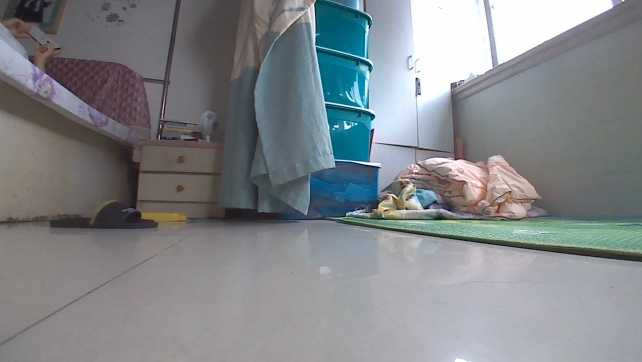bed1: (0, 30, 155, 225)
blanket: (334, 215, 641, 263)
cabinet: (131, 135, 225, 220)
slipper: (46, 197, 160, 231)
wire: (185, 214, 235, 222)
